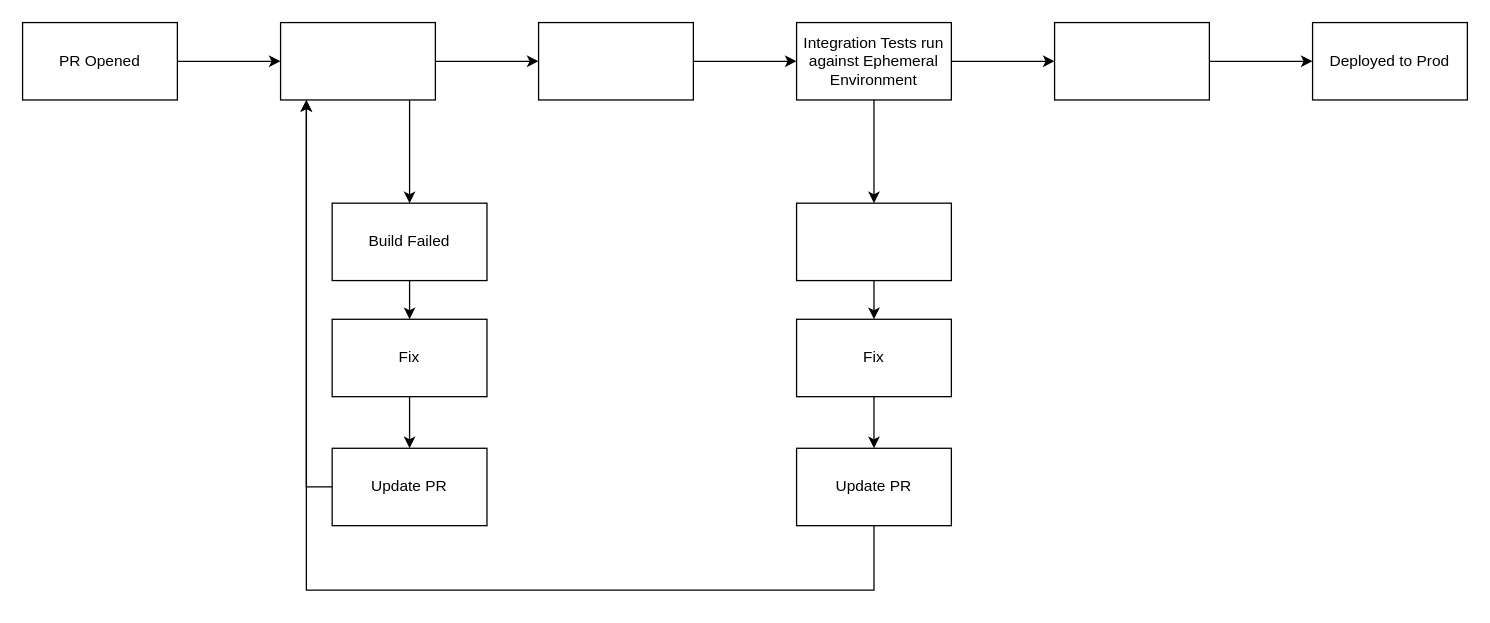
Image size: 1490x623. Some labels were removed from this diagram. Here are the shapes that lost their labels. From the top down, the box of each, then its label:
(279, 21, 435, 100): Unit Tests Run
(537, 21, 693, 100): App deployed to Ephemeral Environment
(1053, 21, 1209, 100): PR Merged (manual intervention)
(795, 202, 951, 281): Bulid failed
